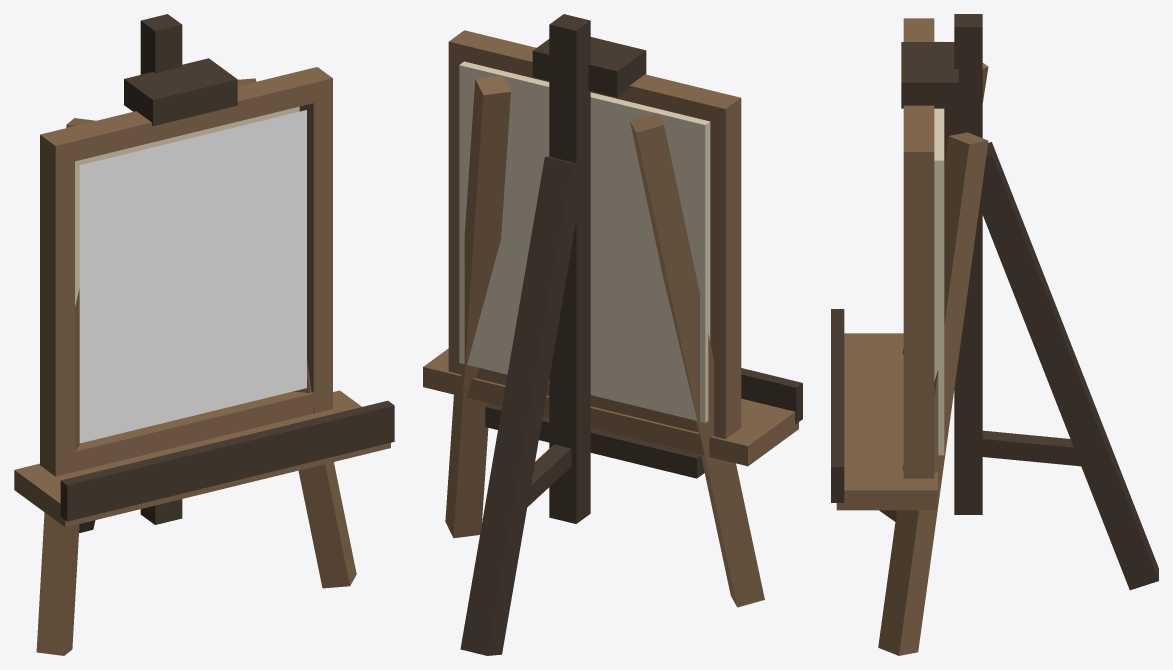
The model's file is 01_Art_Easel.fbx.
3 renders of one model, left to right at view 1: azimuth 30°, elevation 25°; view 2: azimuth 150°, elevation 25°; view 3: azimuth 270°, elevation 25°, orthographic.
Parts seen in each view (by area): view 1: Canvas, frame, tray, Legs; view 2: frame, Legs, tray; view 3: Legs, frame, tray.
Part boxes in pixels (x1=…): Canvas: x1=79, y1=110, x2=306, y2=443; frame: x1=40, y1=14, x2=332, y2=524; tray: x1=14, y1=390, x2=394, y2=527; Legs: x1=36, y1=78, x2=356, y2=655; frame: x1=448, y1=14, x2=741, y2=523; Legs: x1=445, y1=75, x2=764, y2=655; tray: x1=423, y1=348, x2=802, y2=466; Legs: x1=878, y1=63, x2=1158, y2=655; frame: x1=901, y1=14, x2=982, y2=514; tray: x1=831, y1=309, x2=937, y2=510.
Bounding box in the file's own units: 170 × 283 × 149.
